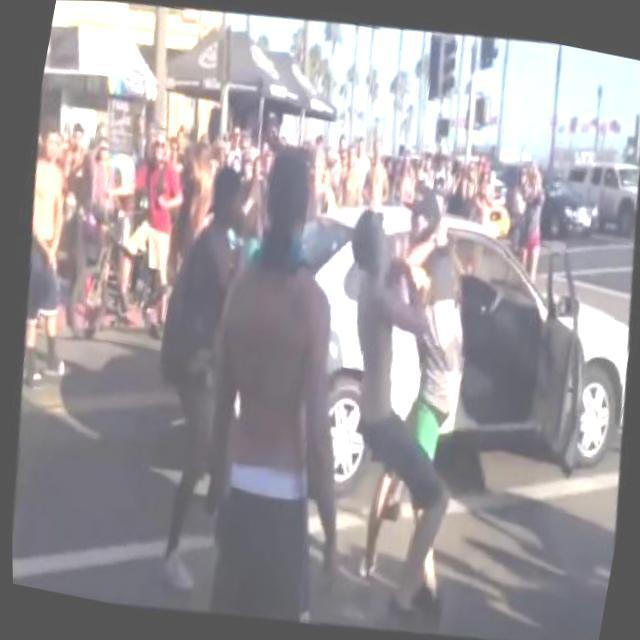fight: (280, 168, 518, 598)
